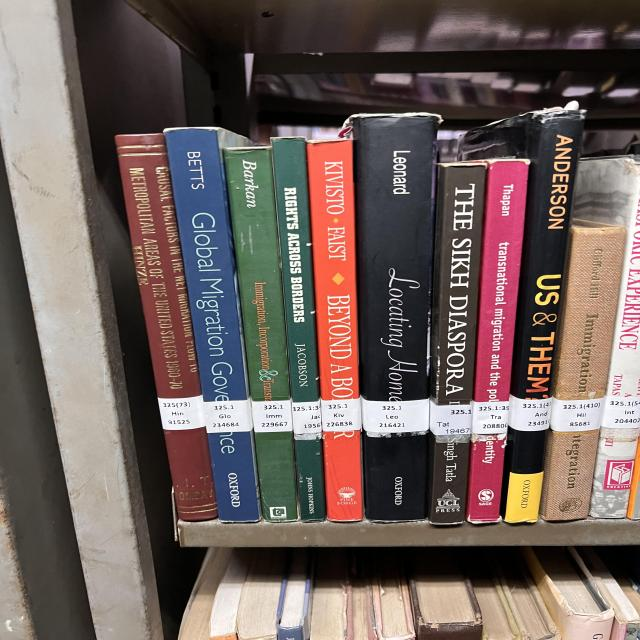Book: (460, 109, 585, 522), (115, 134, 217, 520), (345, 114, 440, 522), (165, 128, 260, 522), (223, 148, 298, 522), (540, 219, 625, 521), (575, 158, 640, 519), (467, 159, 528, 524), (428, 162, 487, 525), (307, 139, 363, 521), (272, 138, 325, 521), (335, 465, 338, 468)
Label: (362, 398, 430, 432), (550, 398, 605, 432), (203, 399, 253, 434), (158, 395, 205, 430), (508, 395, 552, 431), (430, 401, 472, 435), (252, 400, 293, 432), (322, 399, 362, 431), (602, 396, 640, 429), (472, 401, 508, 434), (292, 401, 322, 434)
